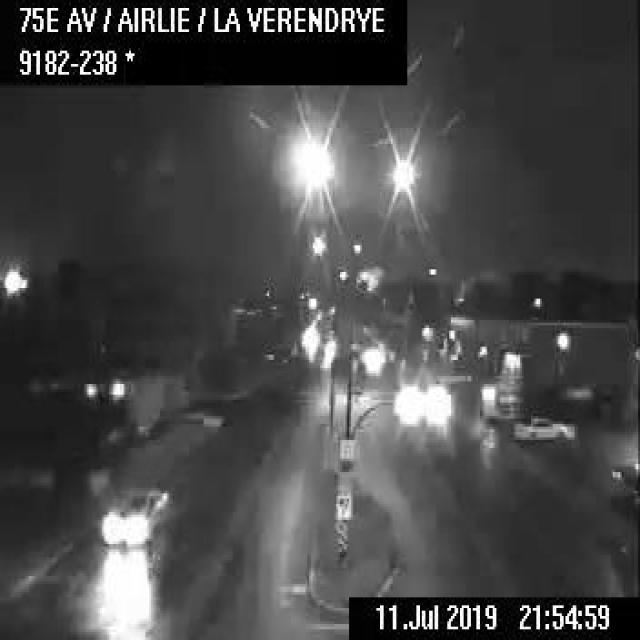vehicle: (104, 482, 170, 546), (512, 411, 576, 443)
